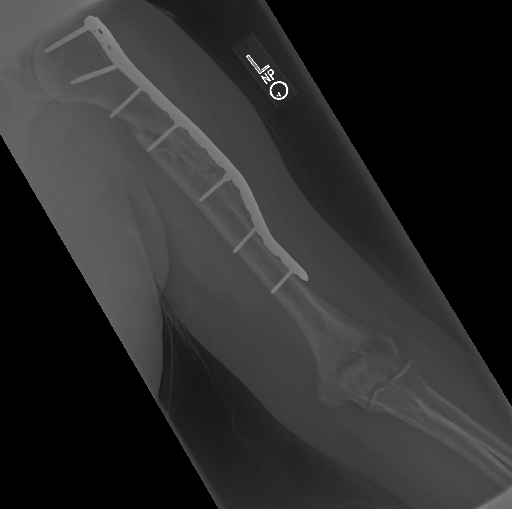implant: (44, 15, 186, 153), (197, 154, 310, 299)
